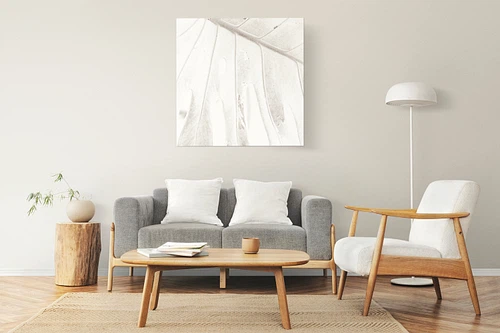chair: (331, 178, 482, 318)
floor lamp: (384, 82, 440, 287)
side table: (51, 221, 103, 290)
sofa: (107, 174, 339, 296)
table: (118, 246, 309, 330)
wall art: (173, 16, 306, 148)
